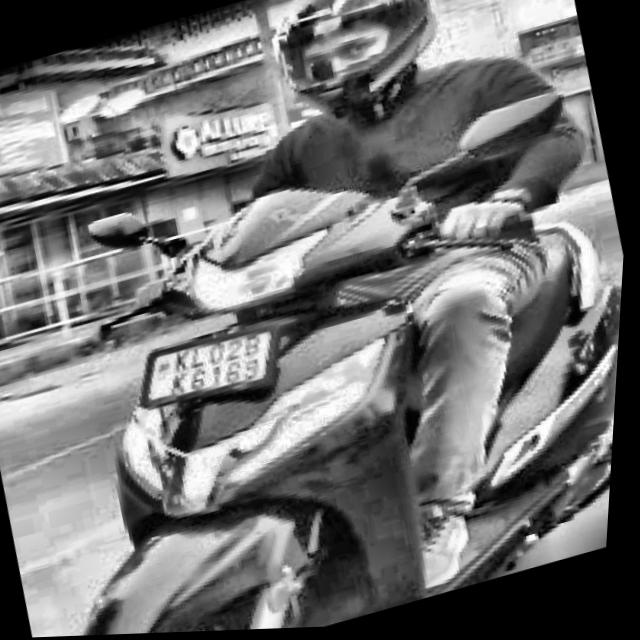motorcycle: (0, 67, 636, 640)
